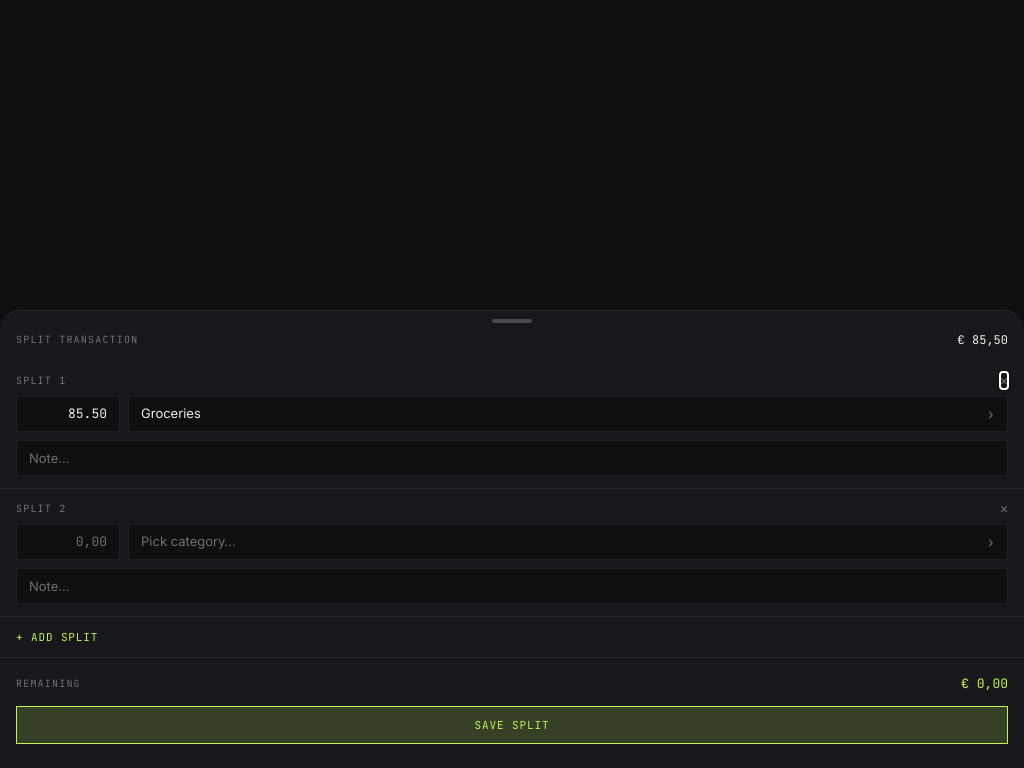
Test: SplitEditorSheet › assigns the remainder to the last row in one tap and enables save
Replace the text in the field named "Amount for split 1" with "65": (68, 414) [16,396,120,432]
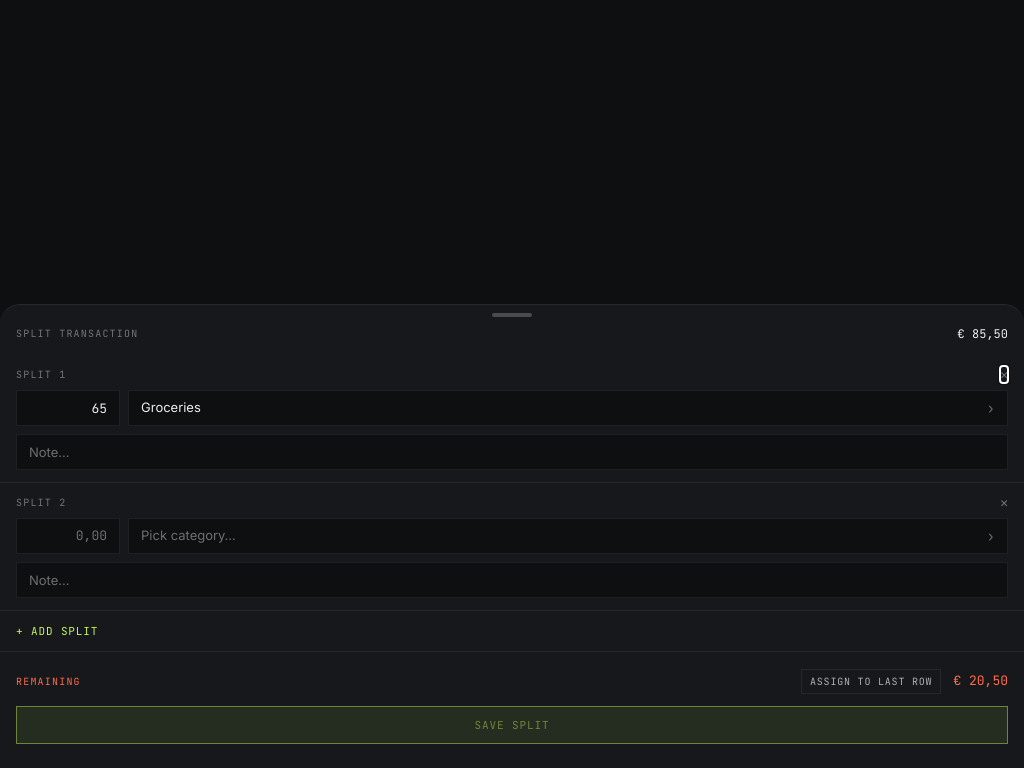
Click the button "Assign to last row": (871, 681) [801,668,941,694]
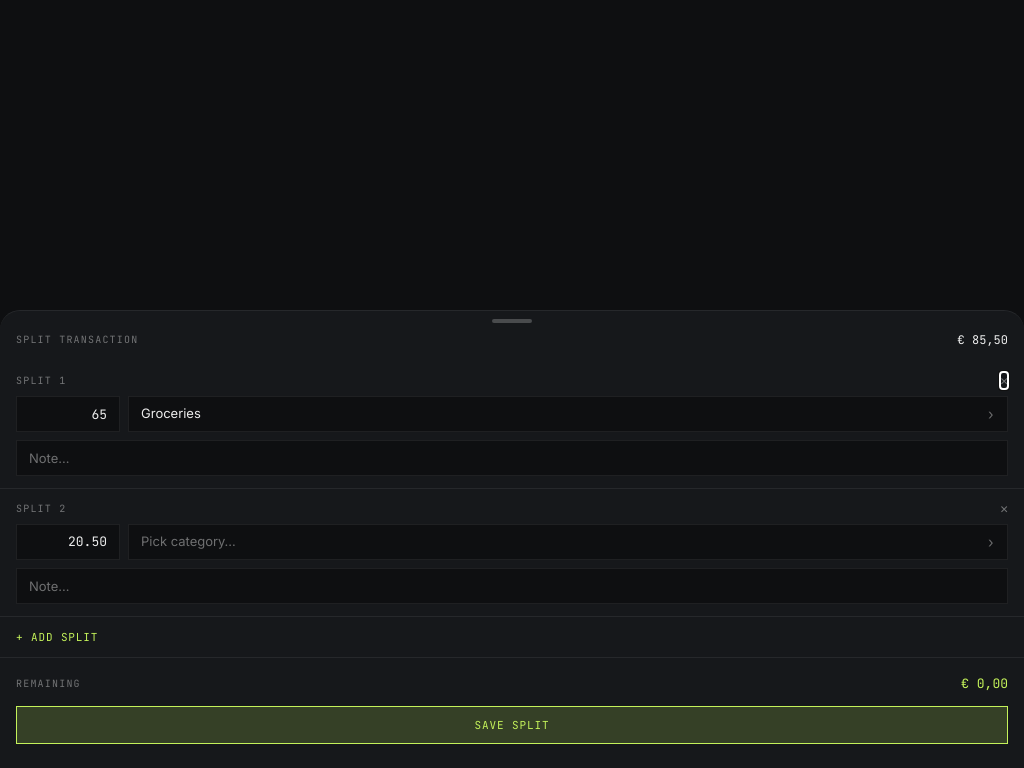
Now the button with test id "split-save" is enabled, box [16,706,1008,744]
